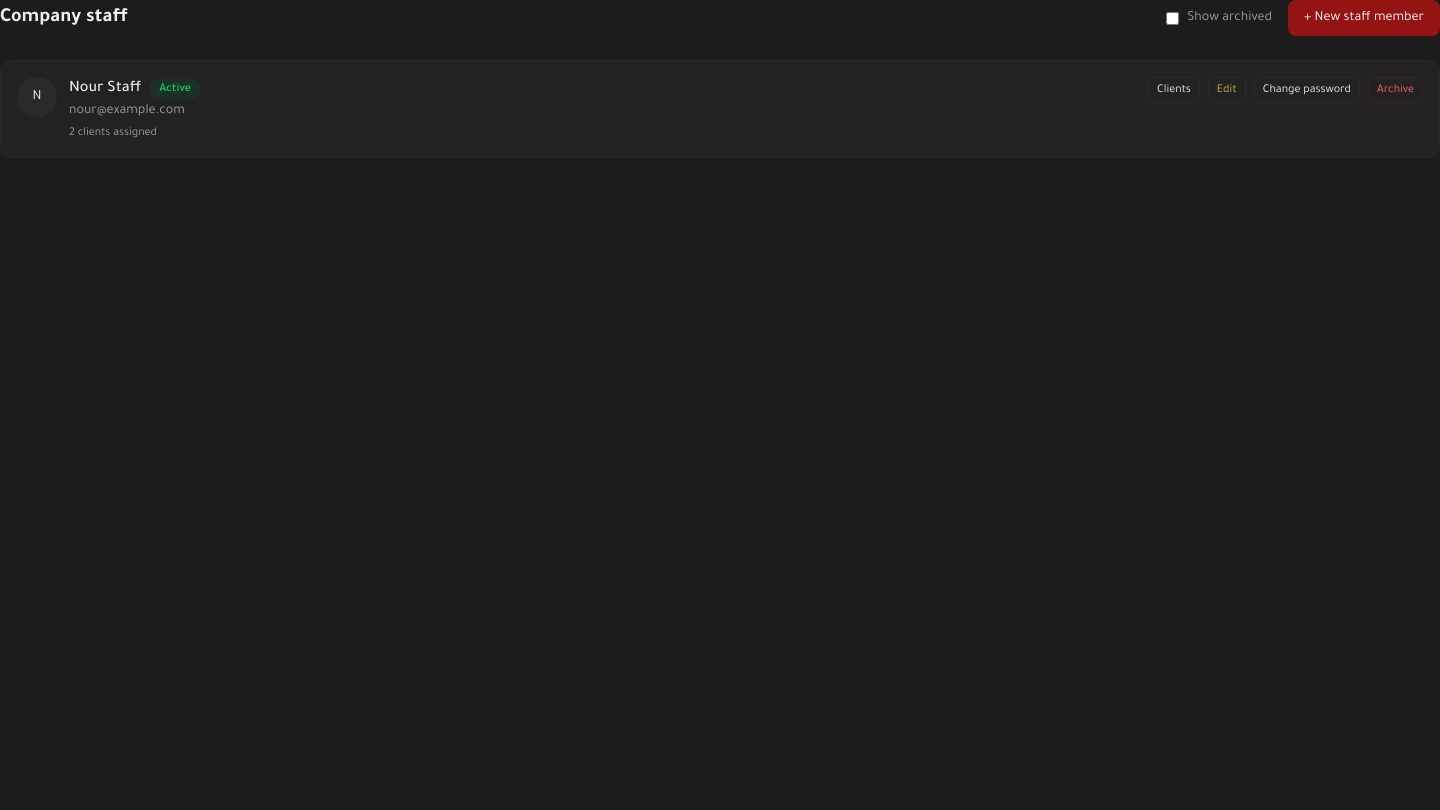
Test: StaffPage › shows the clients a member is assigned to
Click the button "Clients" at (1174, 90), box [1148,77,1200,103]
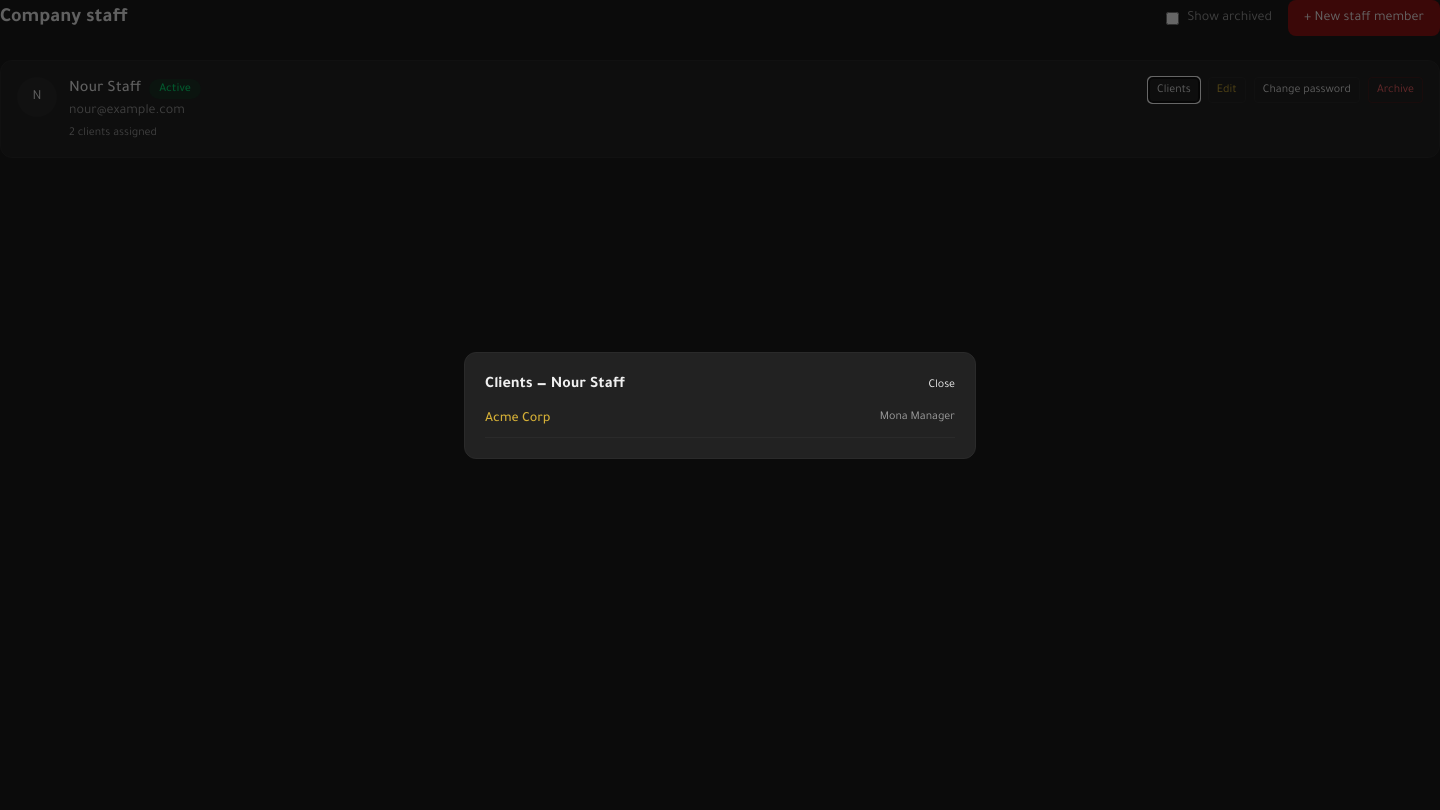
Check: the text "Mona Manager" is shown, box [880,408,955,428]
